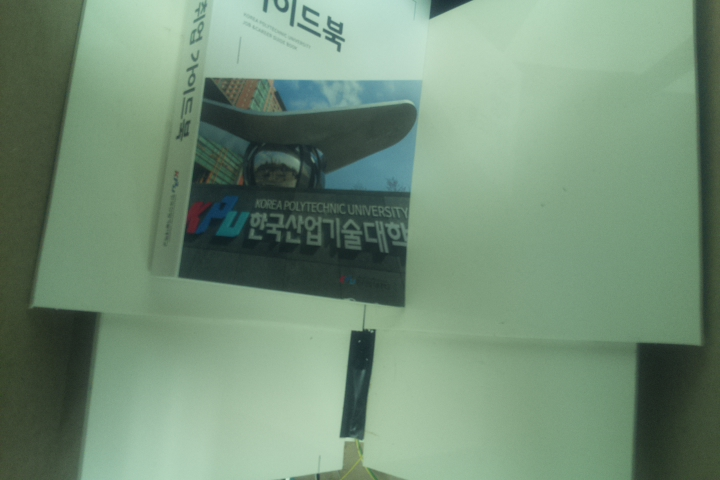book: (142, 1, 435, 313)
